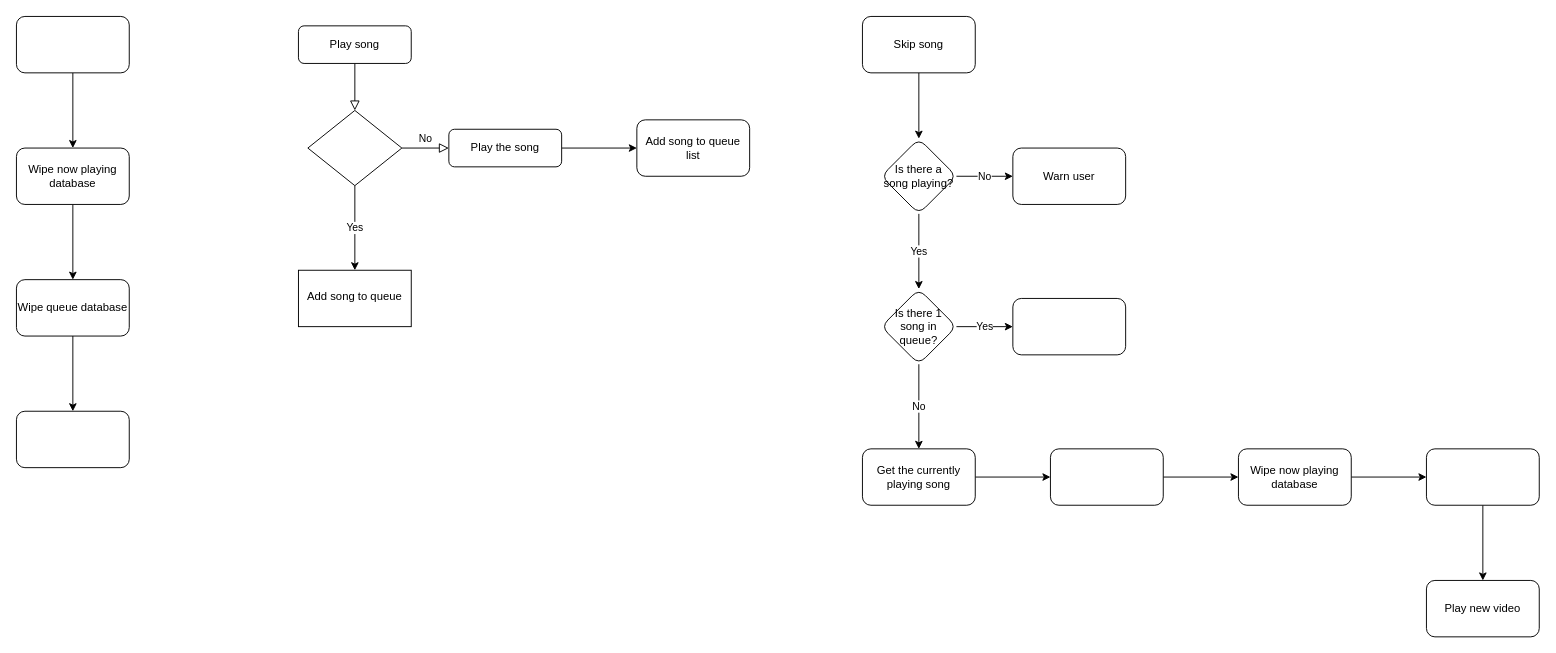
This 1556x653 diagram has some shape labels left out. The shapes that lost their labels are listed below. From the top down, each one's centre as x and y in pixels, then its label:
At (72,44): "Stop".
At (354,148): "Queue exists?".
At (1069,326): "Skip currently playing song, disconnect bot".
At (72,439): "Disconnect bot".
At (1106,476): "Delete the song from queue database".
At (1482,476): "Add queue[0] element to now playing database".
